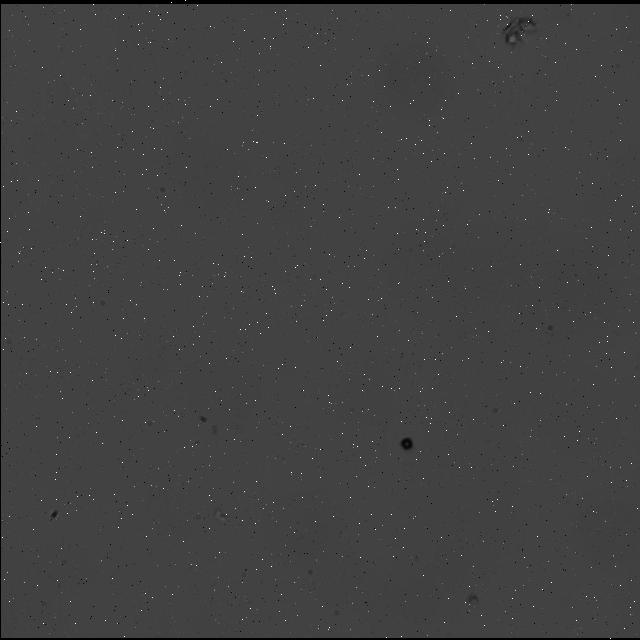microbeads: (397, 433, 415, 451)
